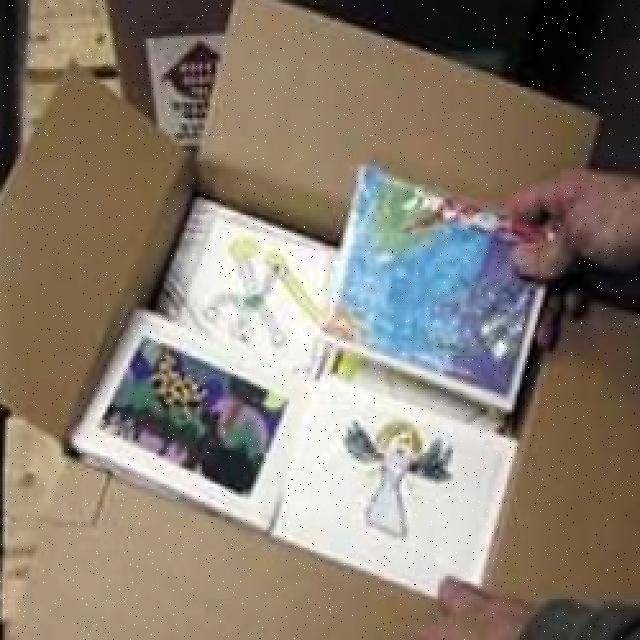box: (1, 0, 620, 568), (115, 0, 289, 177), (0, 412, 74, 620), (31, 0, 115, 69)
